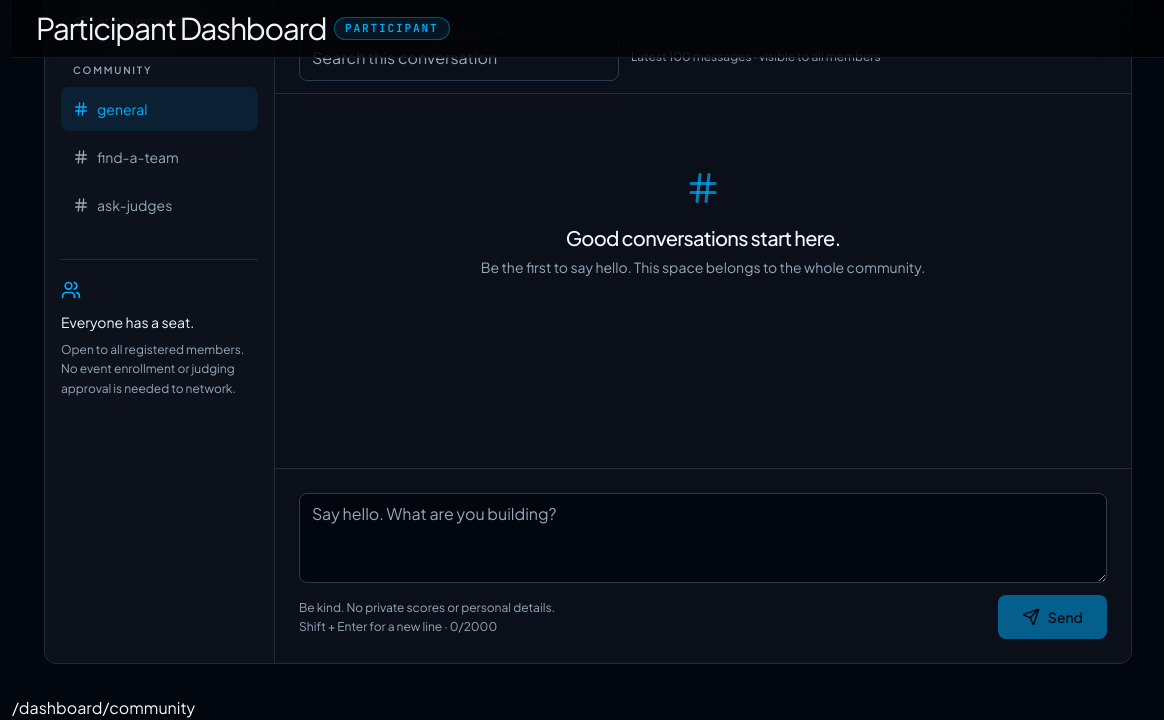
Test case: community networking channel › sends once, clears a successful draft and briefly throttles the composer
The image size is (1164, 720).
(page scrolled)
Type "Hello community" into the text box named "Message #" at (703, 538), box [299,494,1107,584]
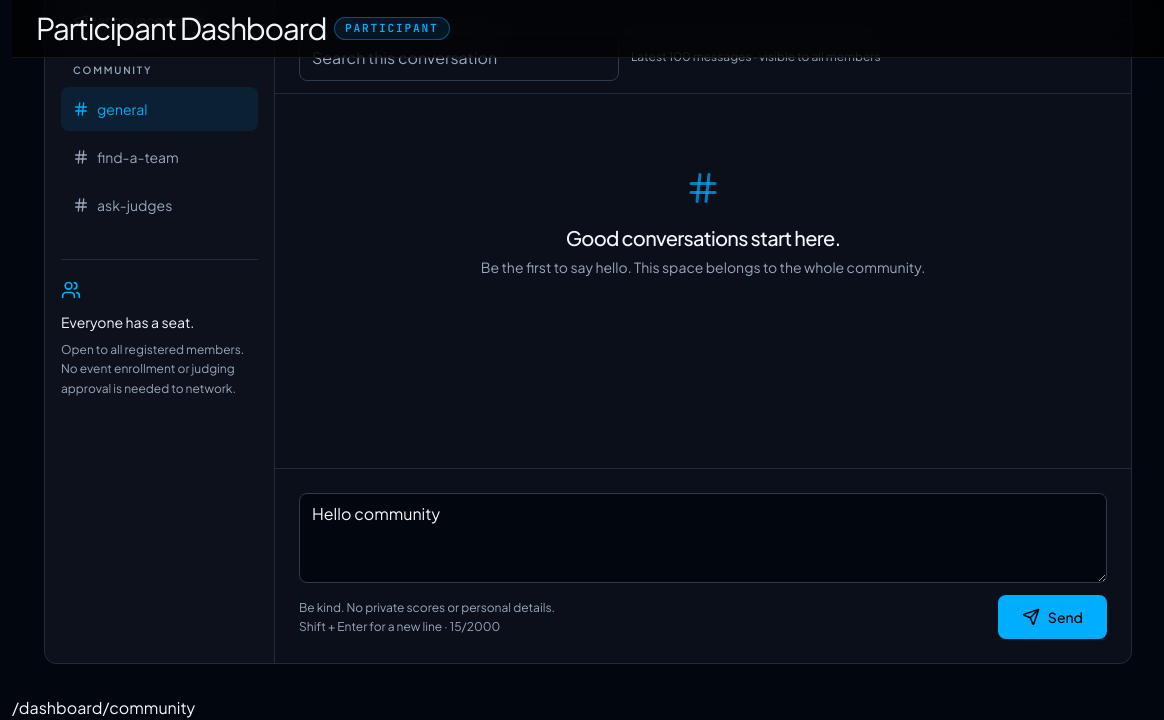
Submit the form named "Send a community message", box [275,468,1131,664]
Submit the form named "Send a community message", box [275,468,1131,664]
Wait 3000 ms
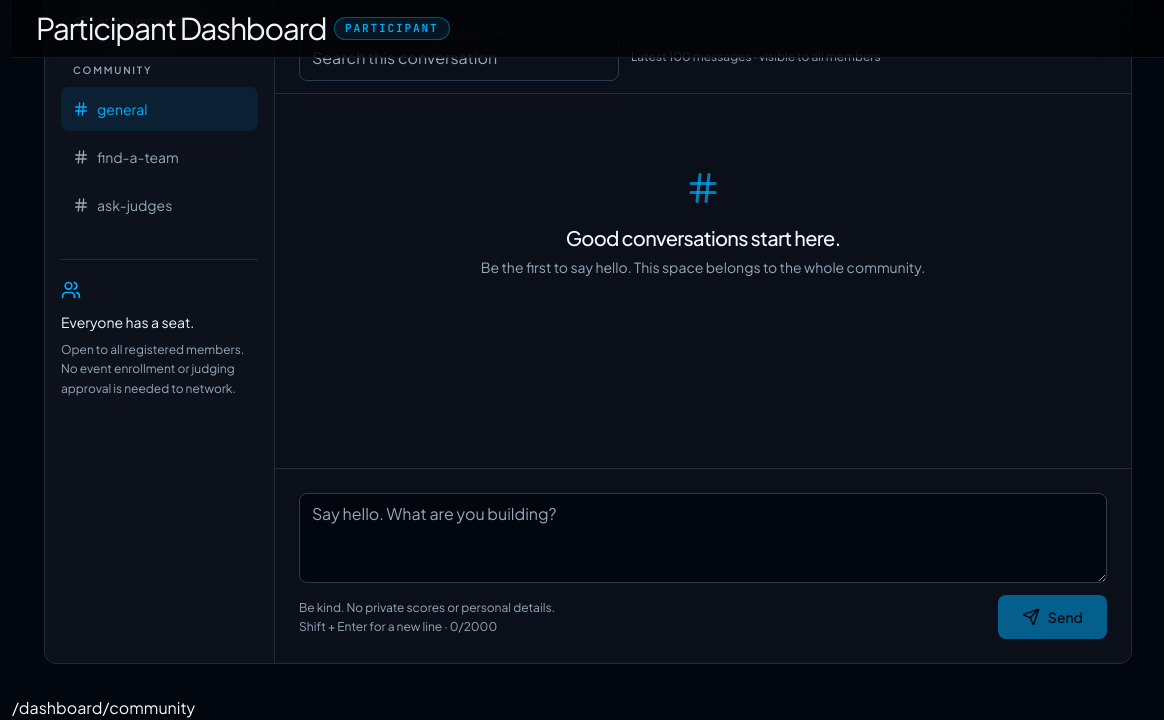
Expected: the text box named "Message #general" is empty
Expected: the button named "Wait a moment" is disabled, [998,596,1107,640]
Type "Next message" into the text box named "Message #" at (703, 538), box [299,494,1107,584]
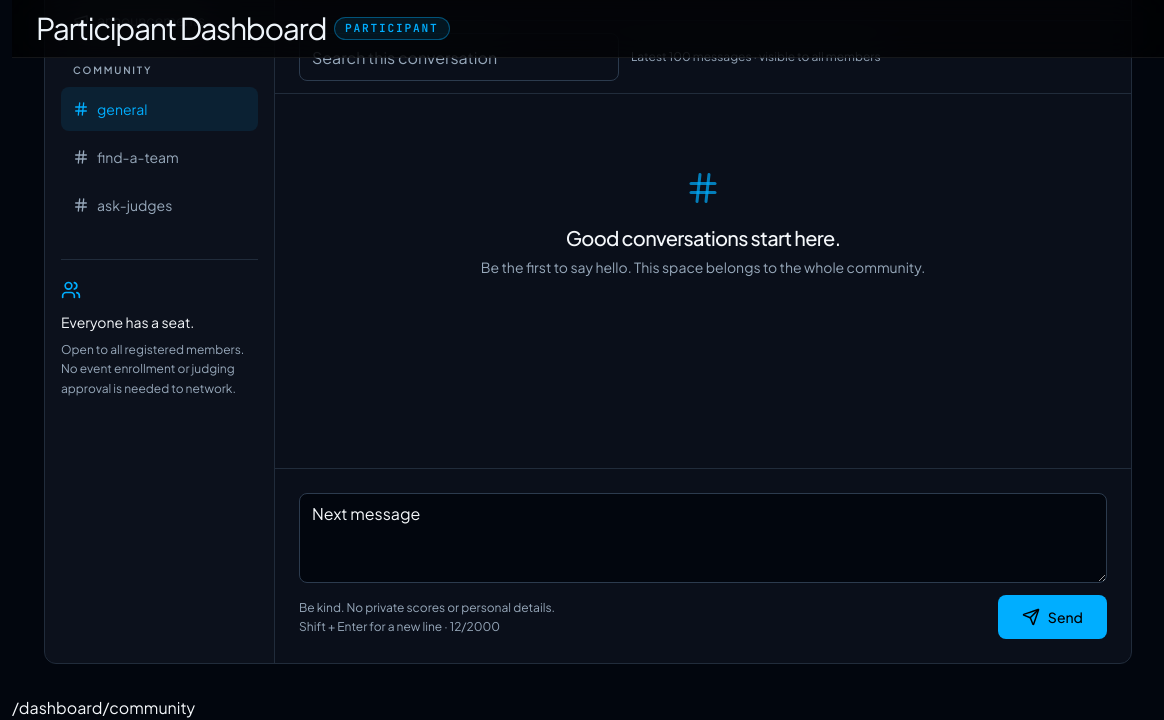
Expected: the button "Send" is enabled, [998,596,1107,640]
